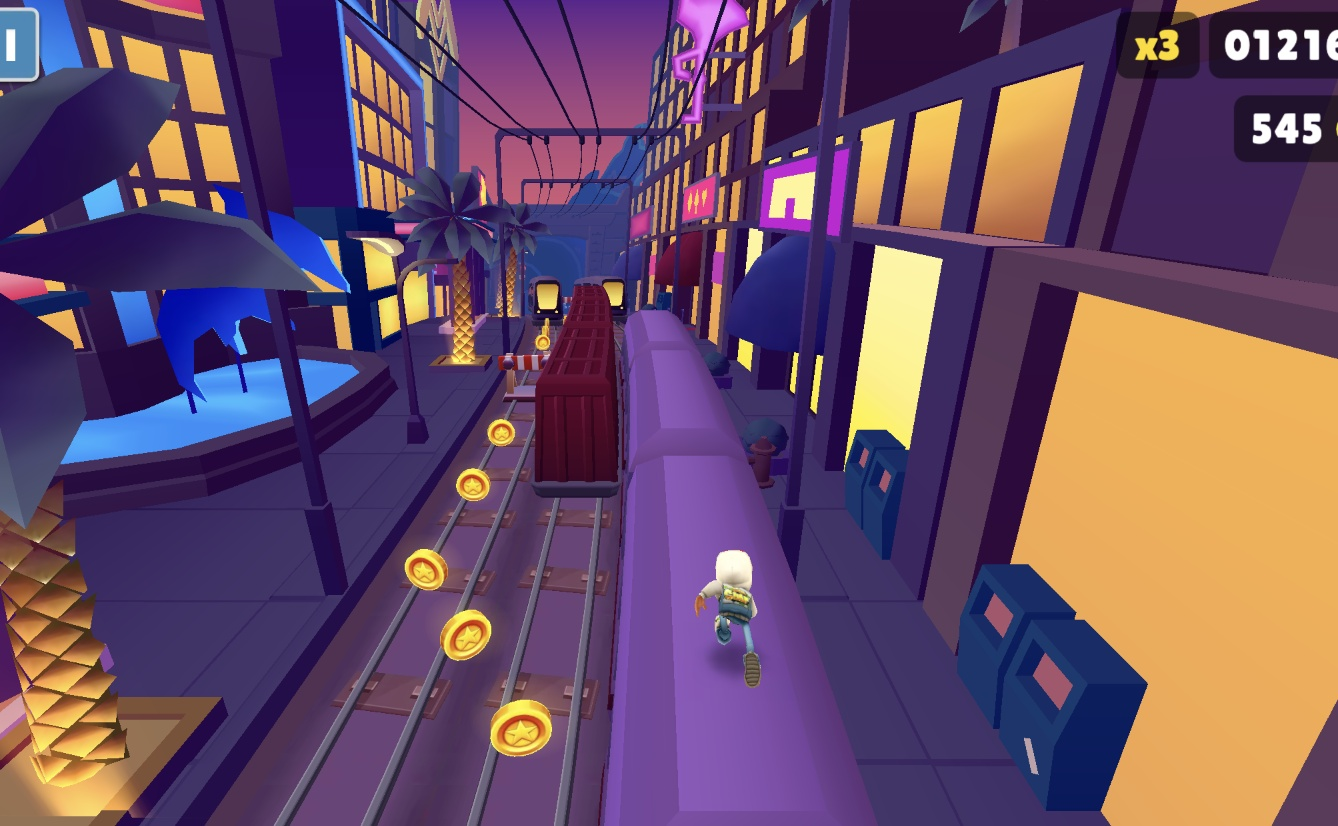train: (592, 309, 871, 826), (517, 282, 624, 494), (529, 282, 564, 322)
